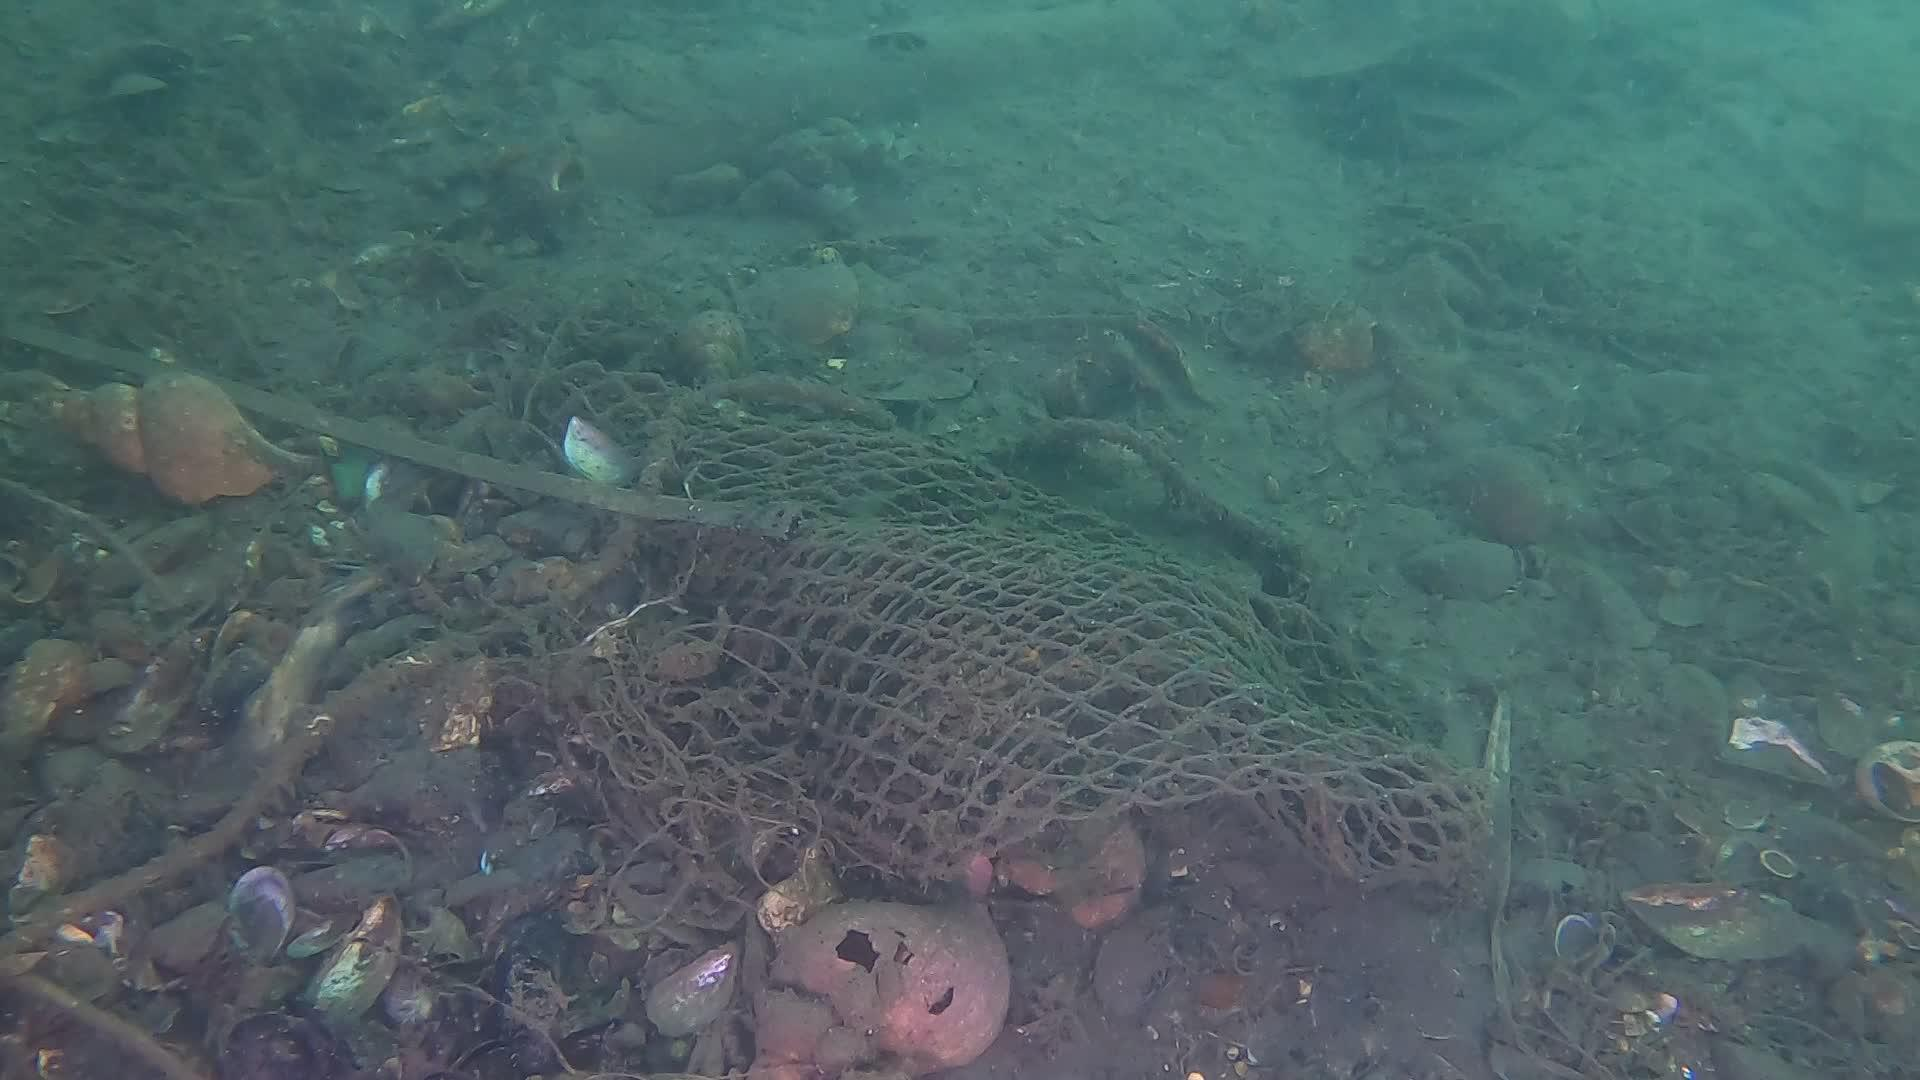fish net: (524, 360, 1485, 882)
